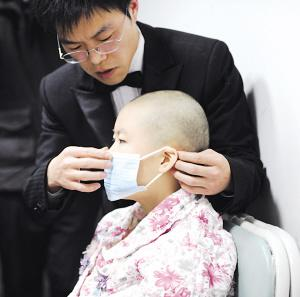NONE: (63, 13, 135, 86)
OK: (101, 126, 177, 202)
